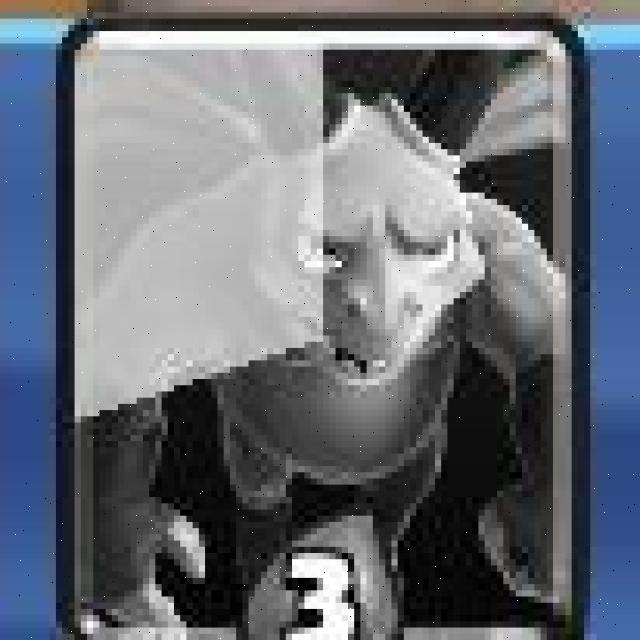Minions: (60, 17, 585, 639)
